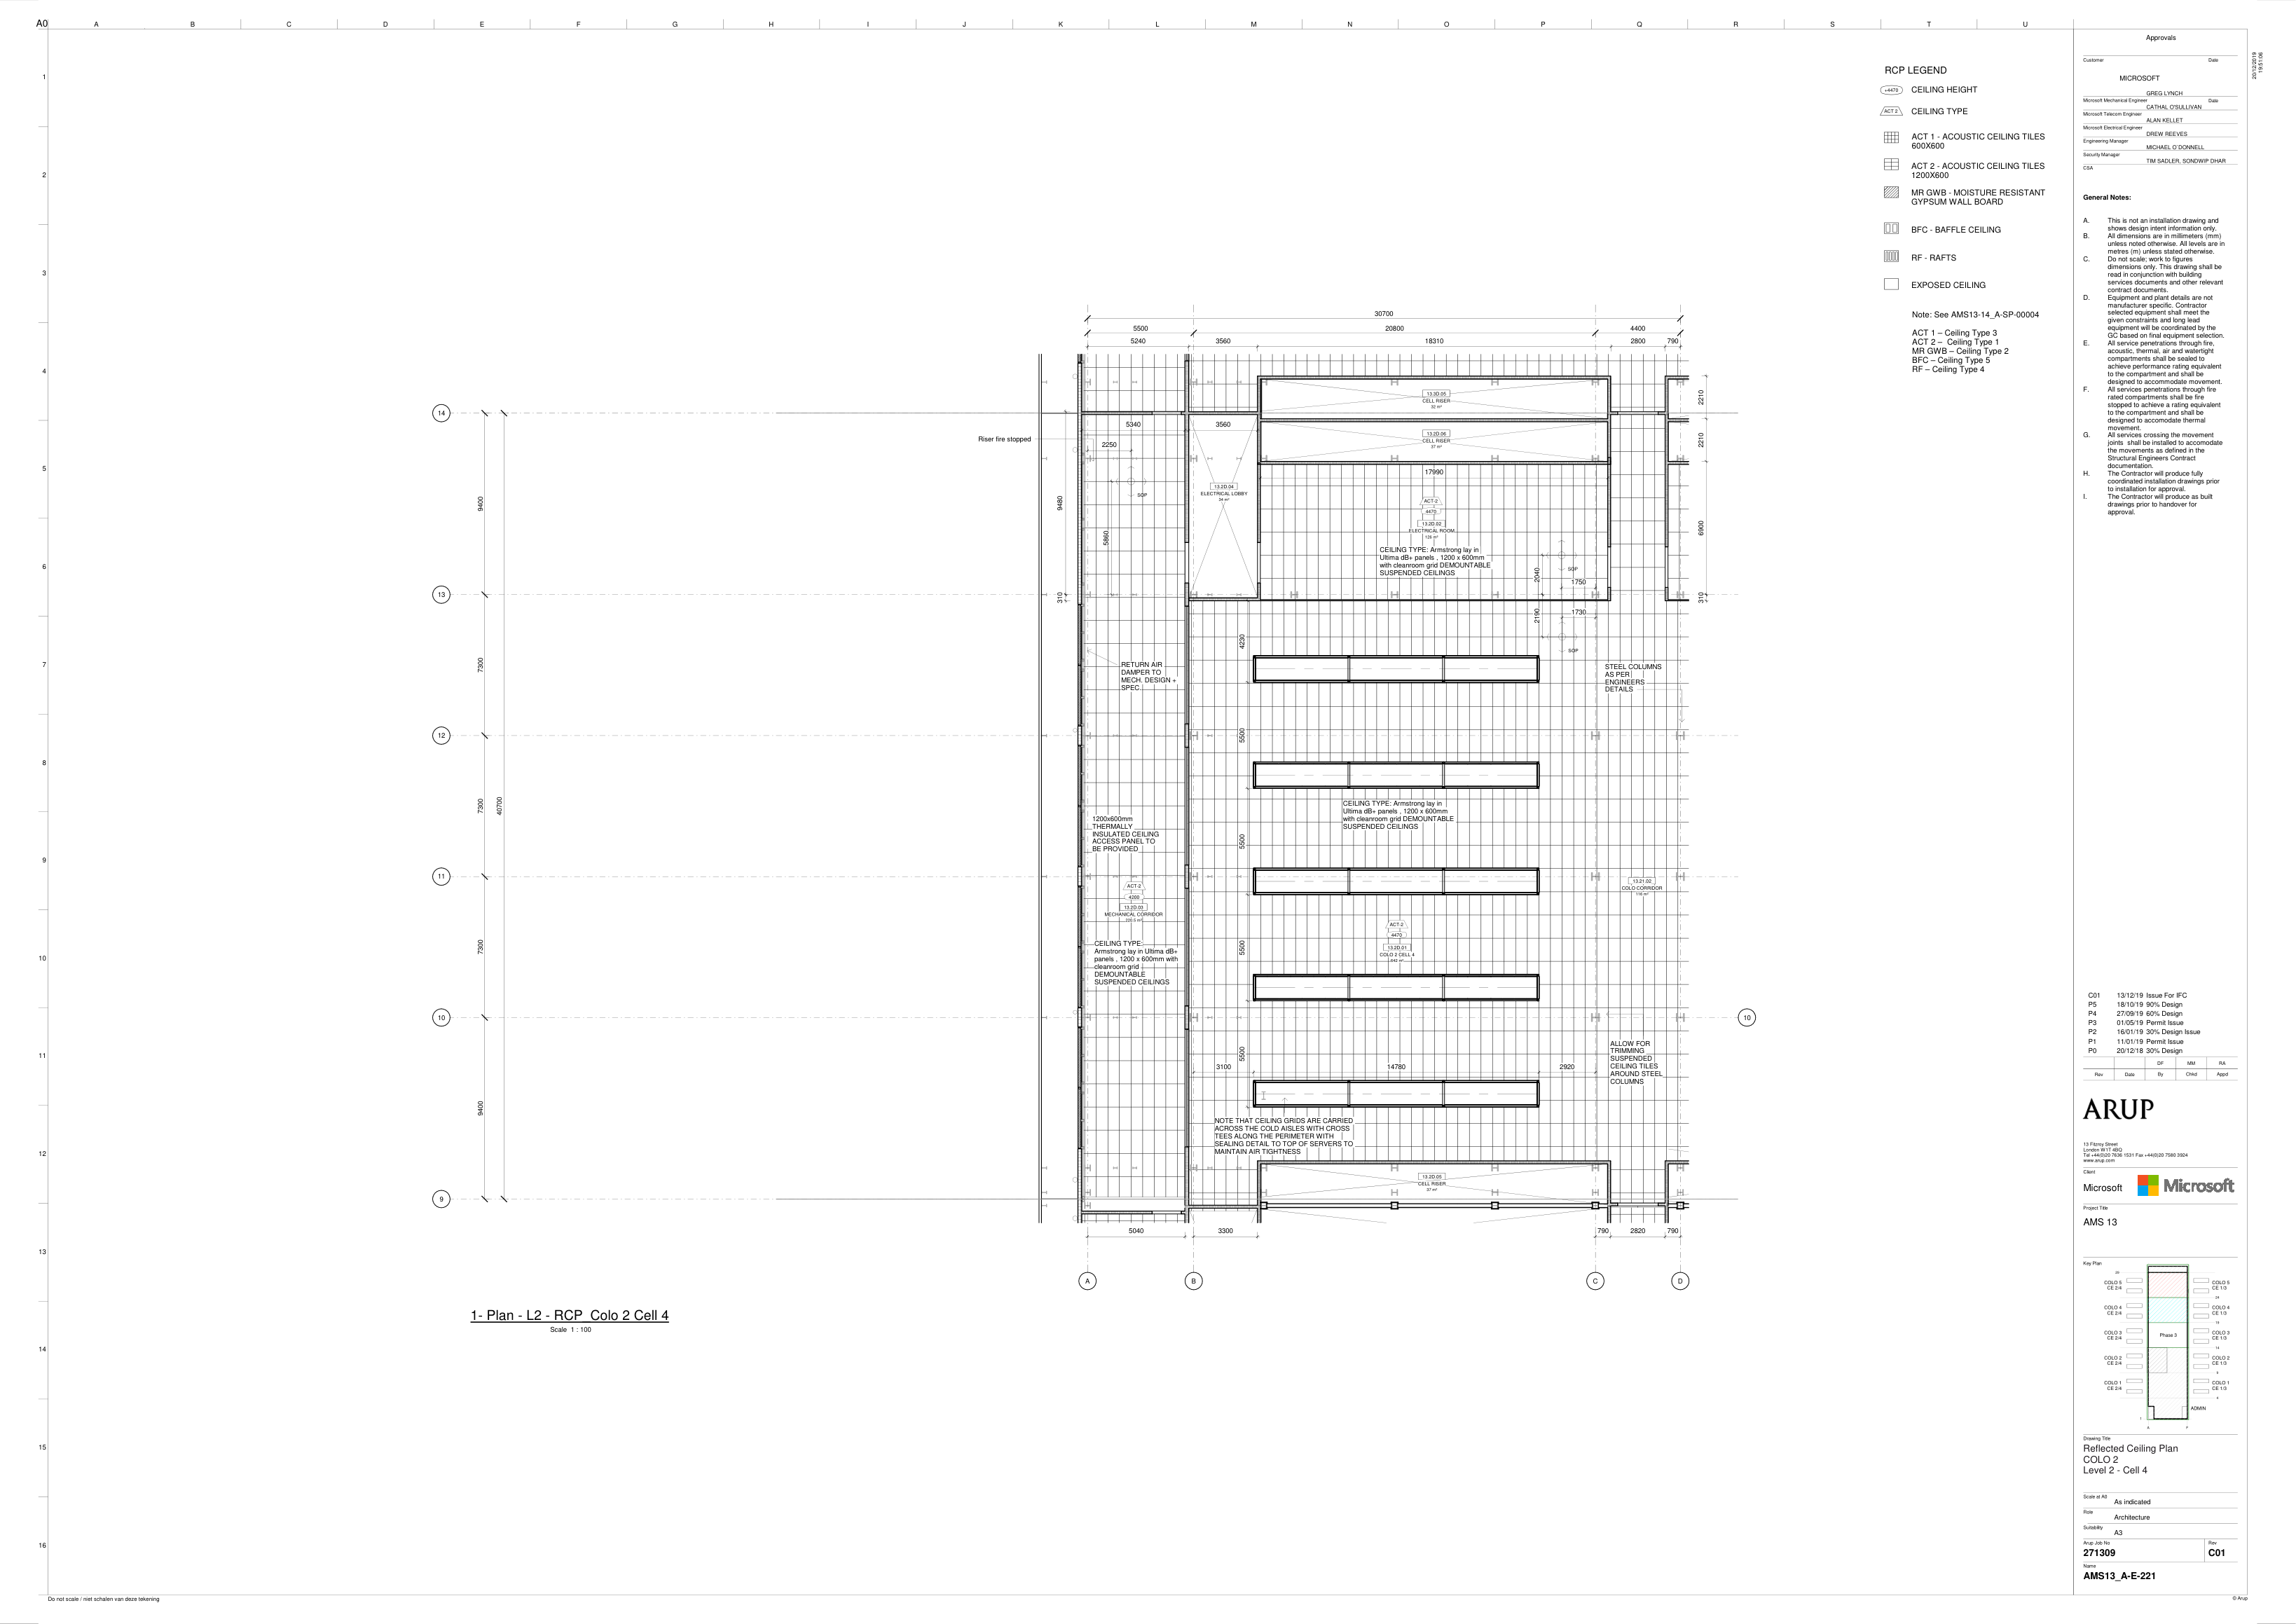Legend: (1878, 62, 2046, 378)
